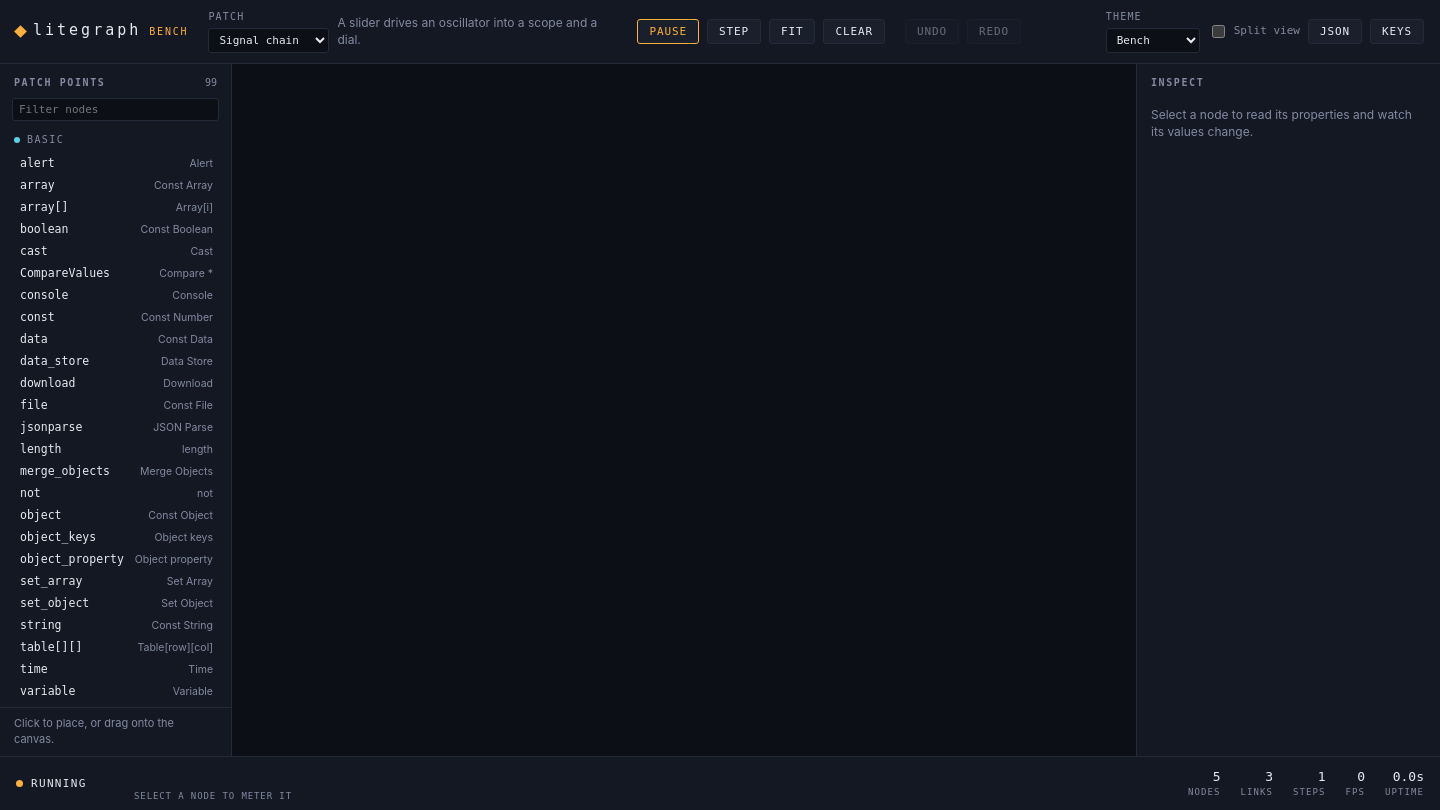
Test: <App> the bench › switches example patches
Select "First patch" in the dropdown named "Example patch" at coordinates (269, 40), box [208,28,329,52]
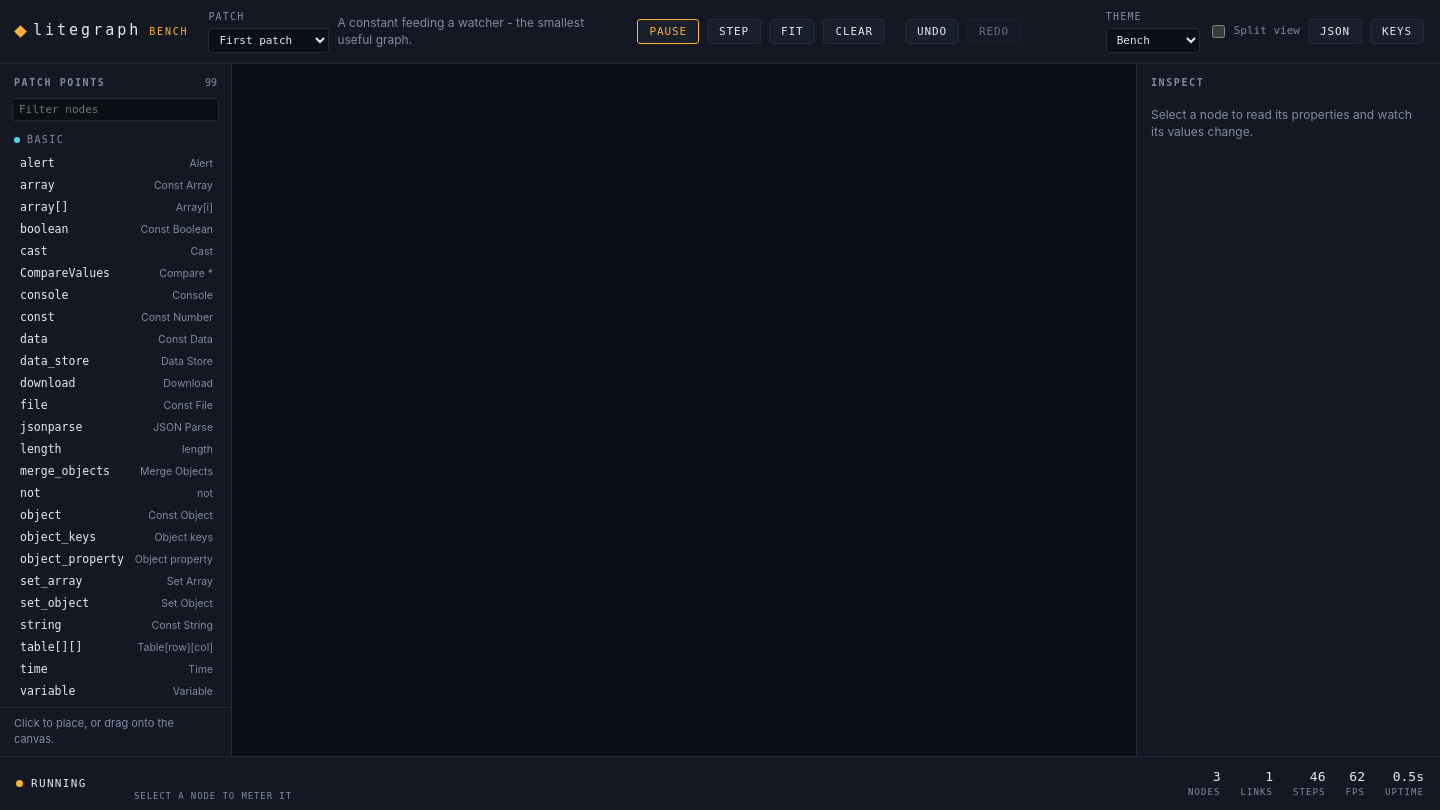
Expected: the text "A constant feeding a watcher - the smallest useful graph." is shown, [337,14,617,49]
